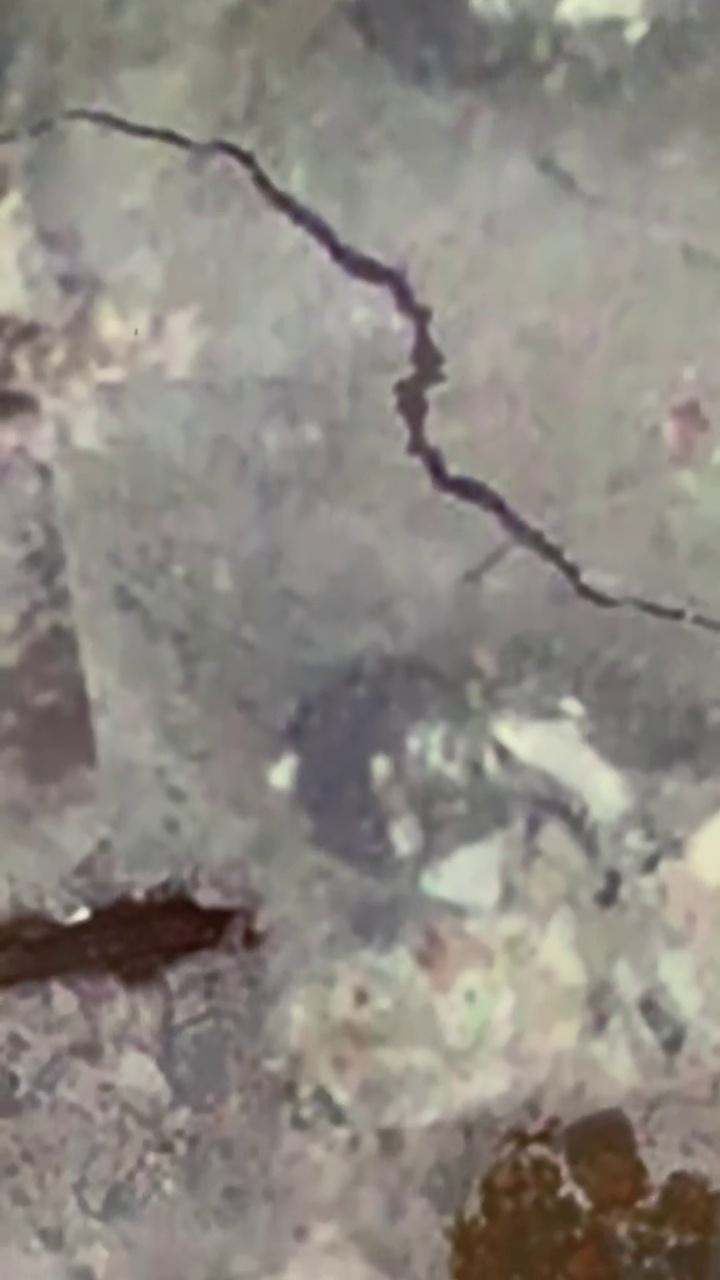Corrosion: (441, 1106, 720, 1280)
Crack: (1, 106, 720, 630)
Exposed reinforcement: (1, 888, 248, 993)
